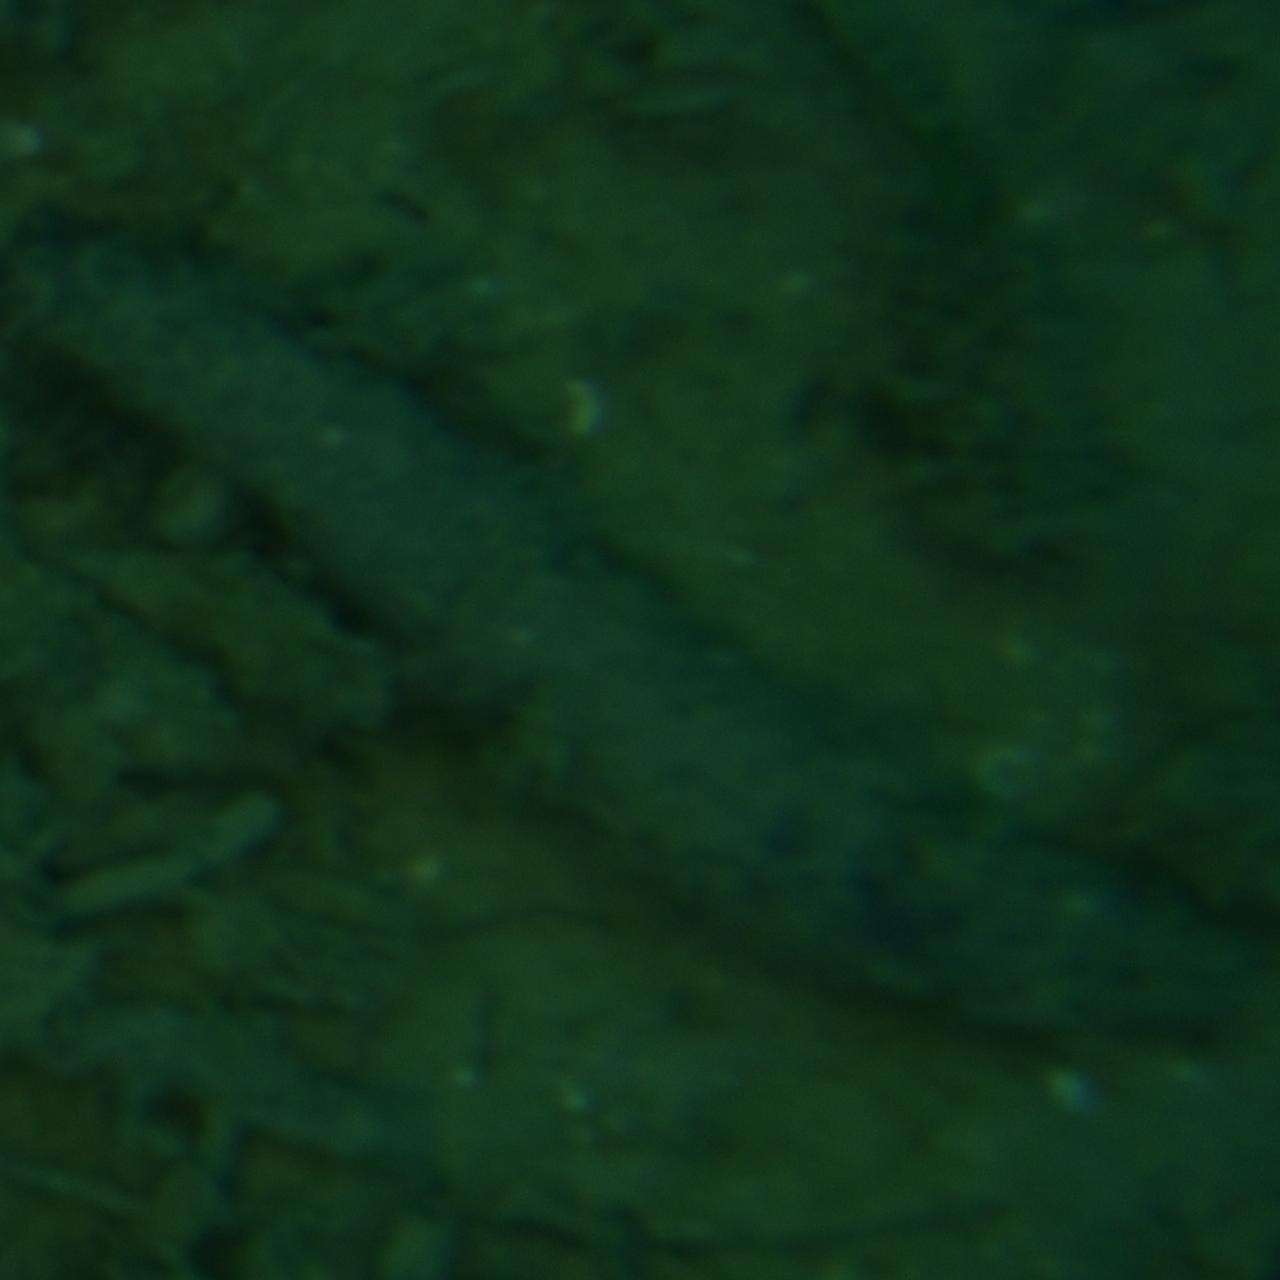Holothuria tubulosa: (0, 200, 1280, 1080)
